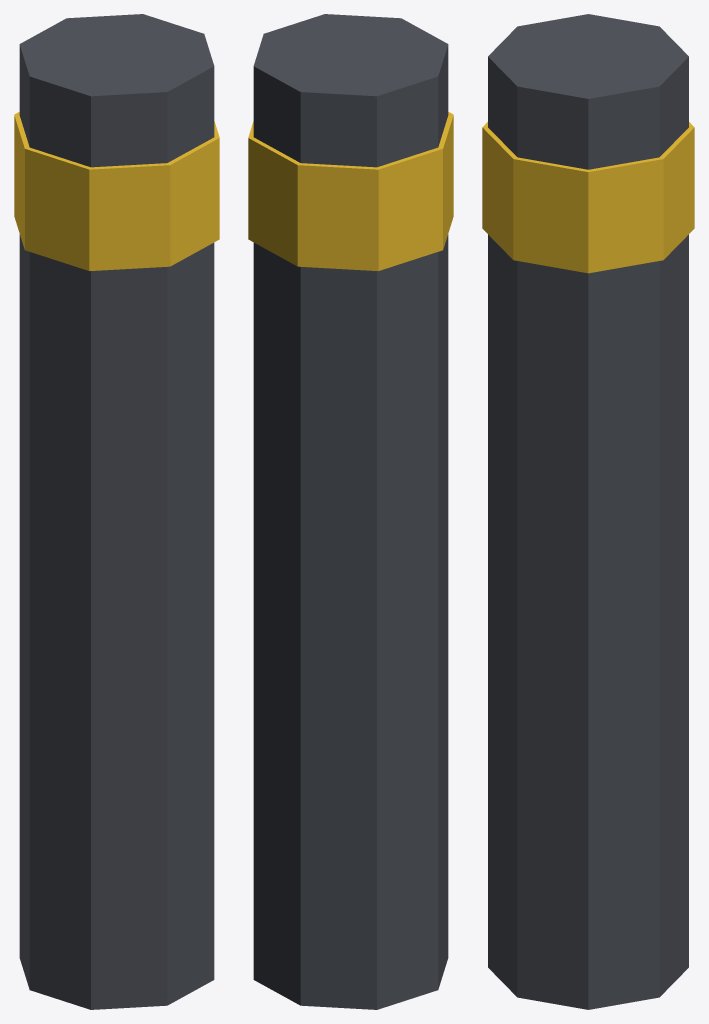
File: bollard.glb
3 renders of one model, left to right at view 1: azimuth 30°, elevation 25°; view 2: azimuth 150°, elevation 25°; view 3: azimuth 270°, elevation 25°, orthographic.
Visible parts, largest first — view 1: bollard; view 2: bollard; view 3: bollard.
Boxes of the visible parts, x1,y1,x2,y2 form: bollard: (14,14,219,1009); bollard: (248,14,453,1009); bollard: (482,14,694,1009).
Bounding box in the file's own units: 0.19 × 0.9 × 0.19.
